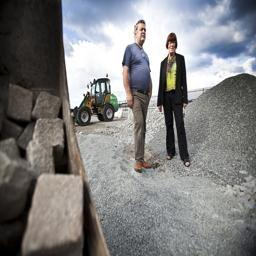no hat: (126, 14, 156, 49), (160, 27, 182, 56)
no vest: (115, 42, 165, 108), (155, 50, 191, 105)
